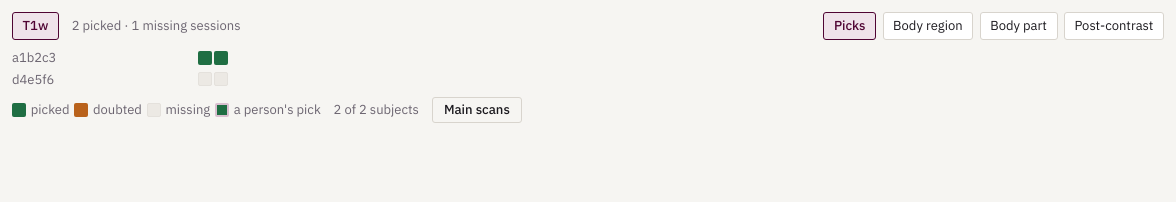
Test case: the heatmap with a layer › asks for the layer chosen, colours the cells by it, says the step has not run, and its Run asks the cohort's door
The image size is (1176, 202).
Click the button "Body region" at (928, 26), box [882,12,973,40]
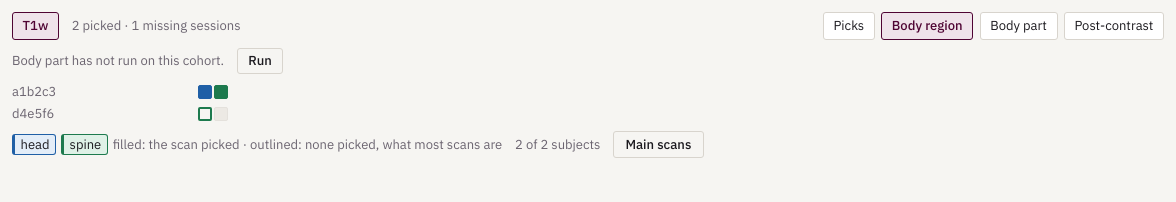
Now the element with class "heat-step" shows "Body part has not run on this cohort.", box [12,52,224,69]
Click the button "Run" at (260, 61), box [237,48,283,74]
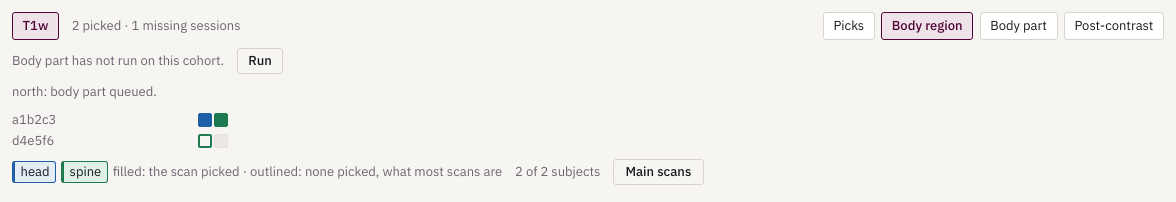
Now the text "north: body part queued." is shown, box [12,83,157,100]
# the picks again
Click the button "Picks" at (849, 26), box [823,12,875,40]
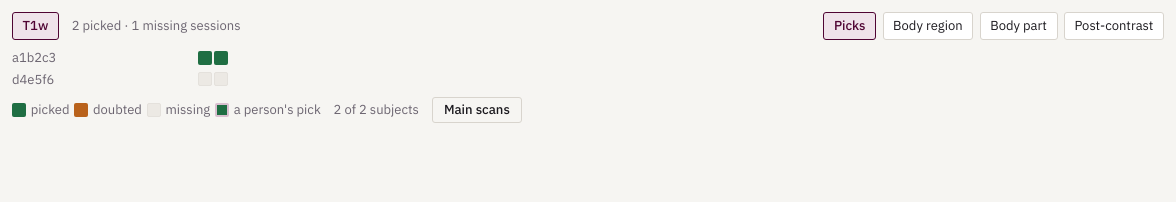
Now no links with class "layered" are shown
Now the 1st link with class "heat-cell" is shown, box [198,51,212,65]
